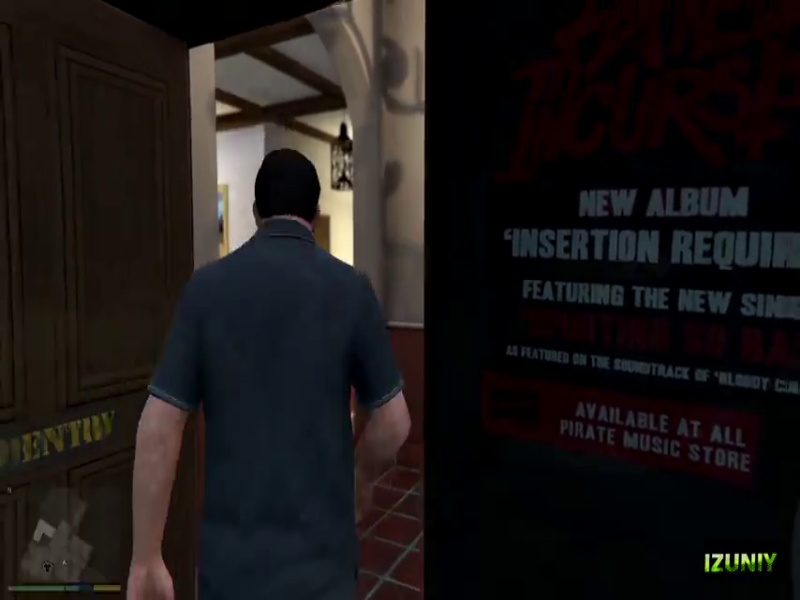human: (120, 145, 411, 597)
